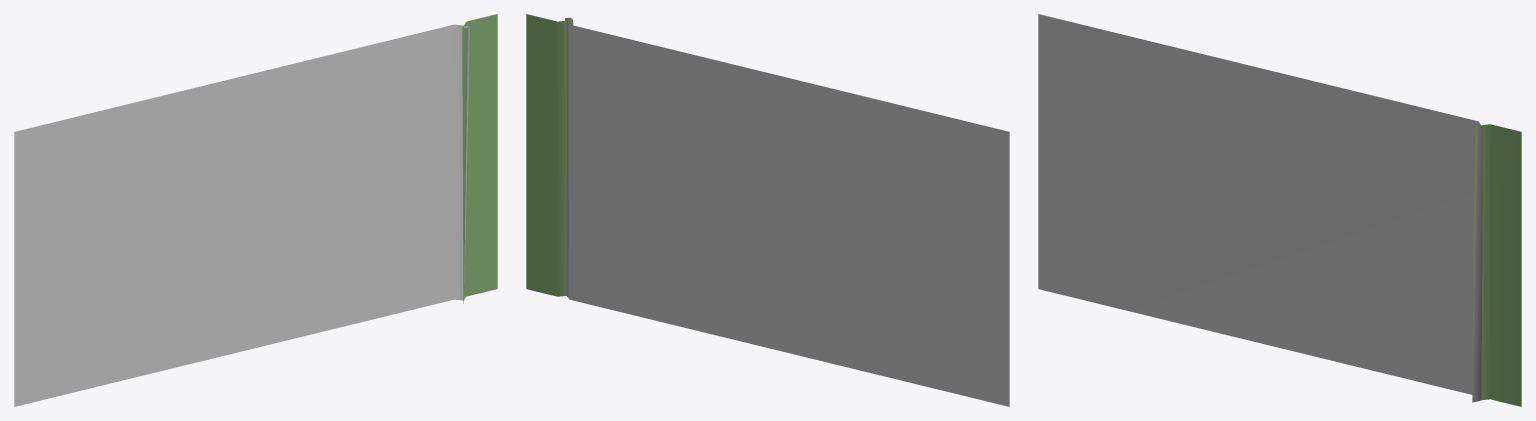
The picture shows the model from 3 angles, left to right: view 1: azimuth 30°, elevation 25°; view 2: azimuth 150°, elevation 25°; view 3: azimuth 330°, elevation 25°; orthographic projection.
Parts seen in each view (by area): view 1: FDBEDC7E471F4A4FA8127B9BE3E750C1; view 2: FDBEDC7E471F4A4FA8127B9BE3E750C1; view 3: FDBEDC7E471F4A4FA8127B9BE3E750C1.
Boxes of the visible parts, x1,y1,x2,y2 form: FDBEDC7E471F4A4FA8127B9BE3E750C1: (14, 14, 497, 406); FDBEDC7E471F4A4FA8127B9BE3E750C1: (526, 14, 1009, 406); FDBEDC7E471F4A4FA8127B9BE3E750C1: (1038, 14, 1521, 406).
Bounding box in the file's own units: 0.4073 × 14.39 × 7.83.
